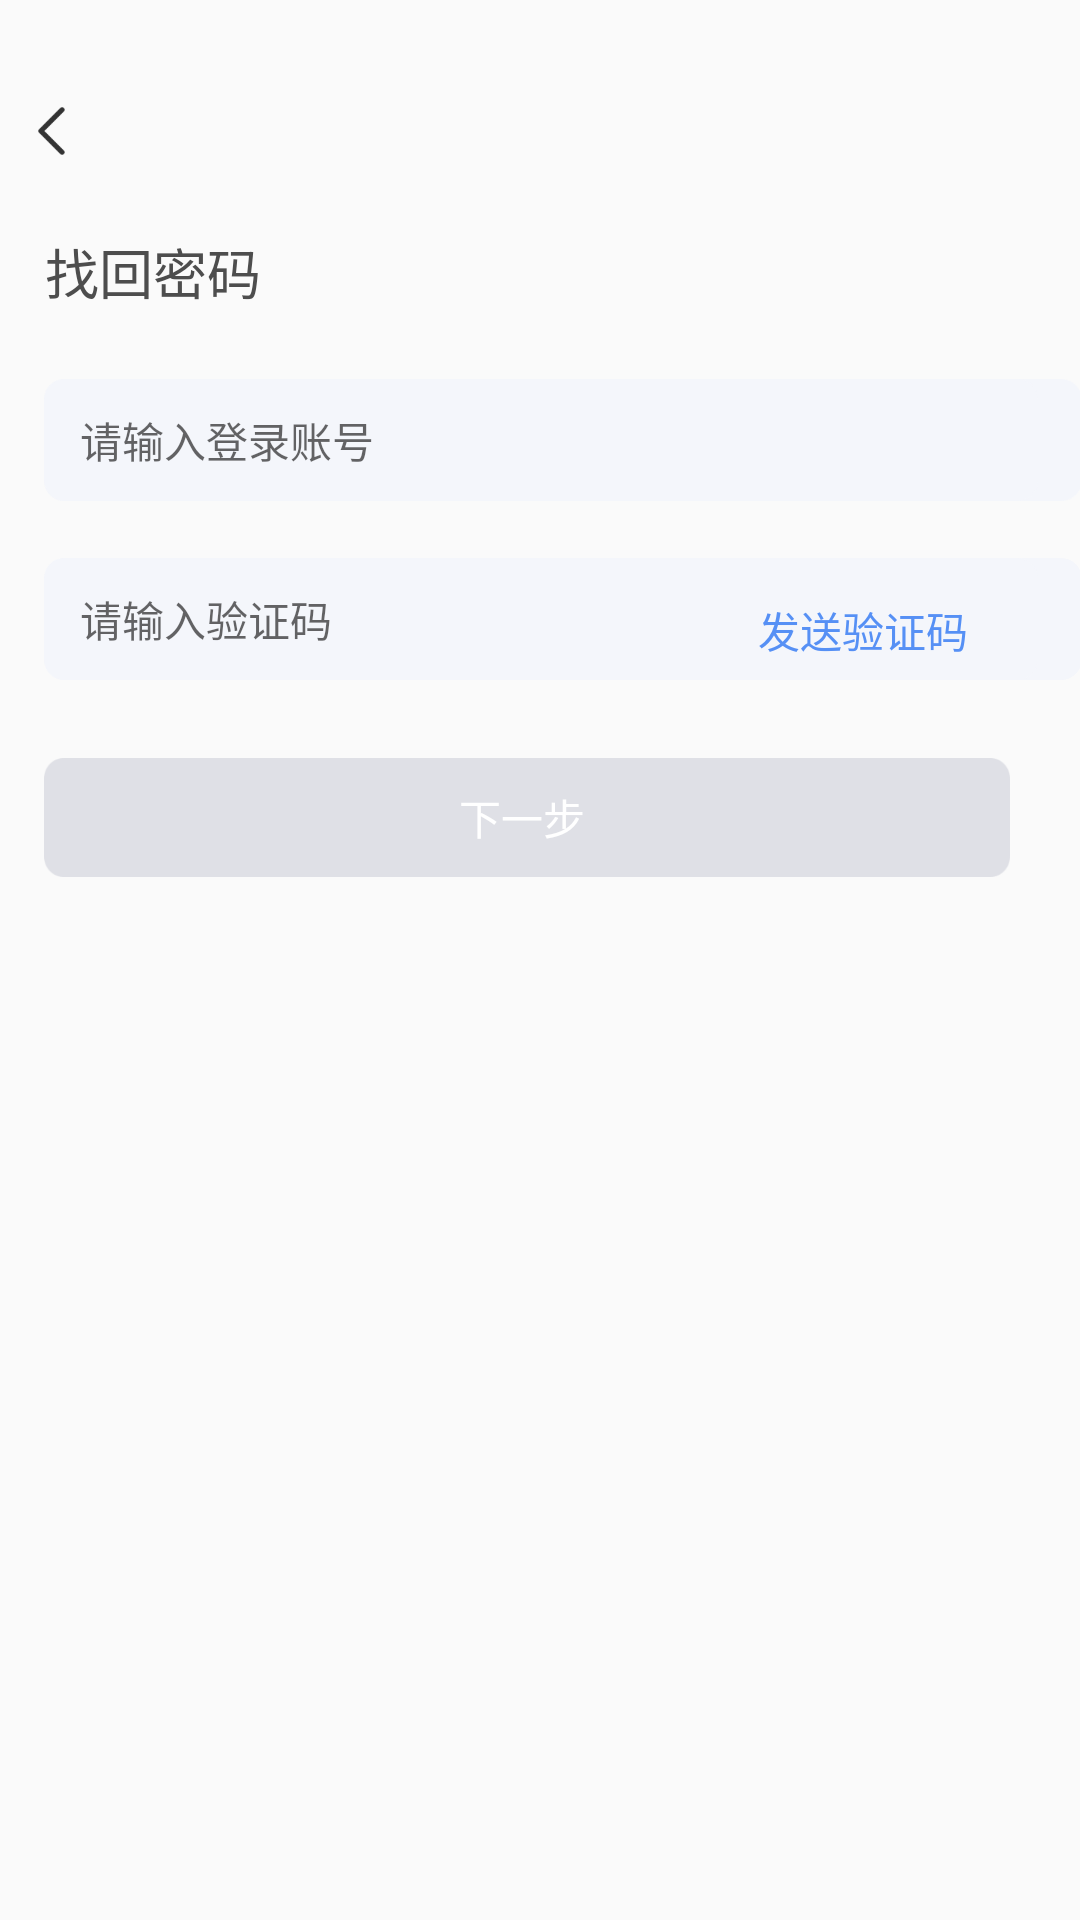

Named icons in this screenshot (1080×1920) and their centers, (x=x, y=y):
forget password return: (x=51, y=131)
